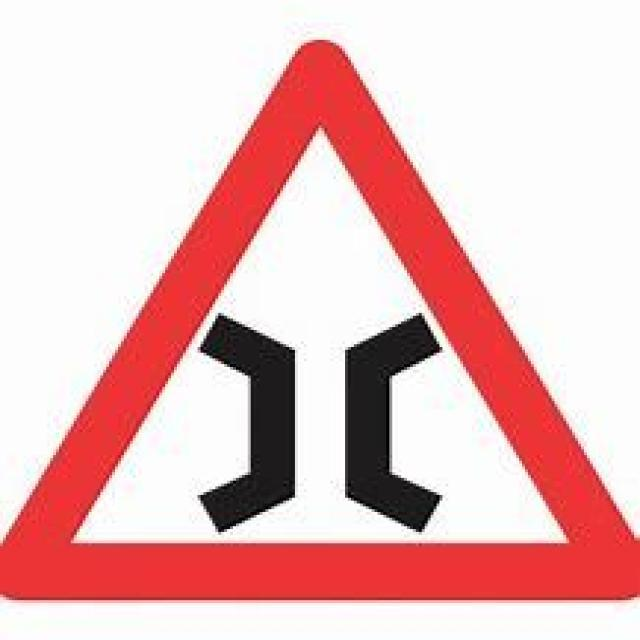narrow bridge ahead: (21, 44, 621, 601)
